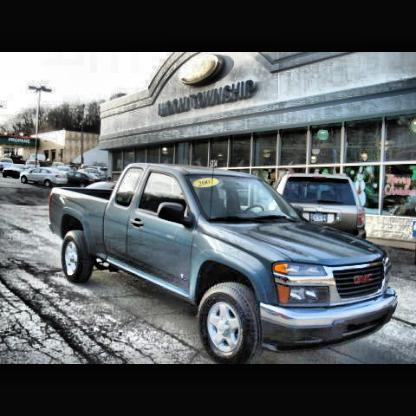GMC Canyon Extended Cab 2012: (45, 156, 403, 365)
